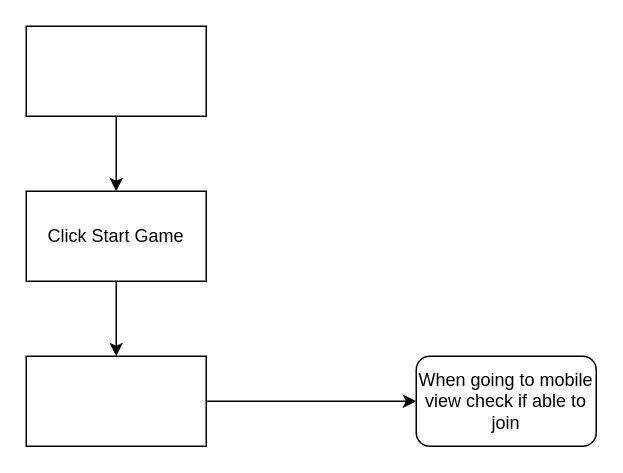
Some shapes in this 623 by 473 pixel diagram are drawn without their labels. The shapes that lost their labels are listed below. From the top down, each one's centre as x and y in pixels, then its label:
pixel 115 70: Home Screen
pixel 115 400: Allow players to join
